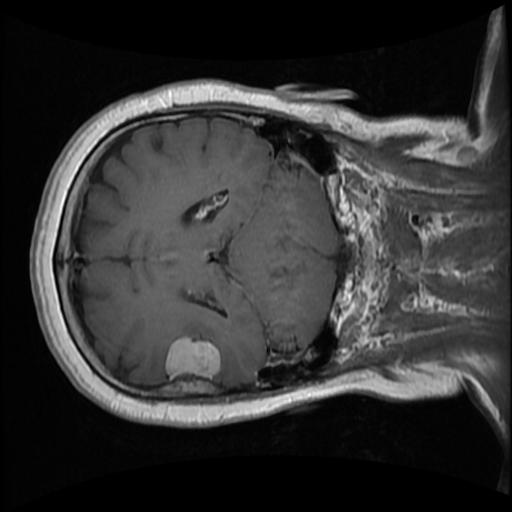meningioma: (163, 335, 221, 381)
